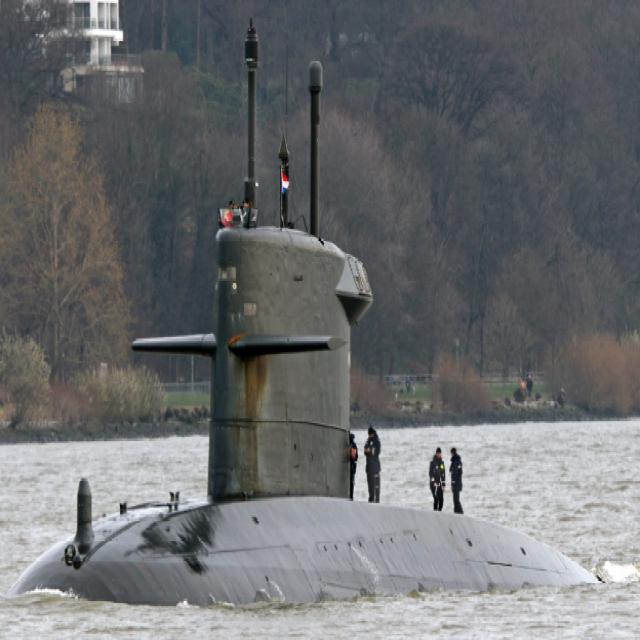submarine: (14, 15, 633, 599)
